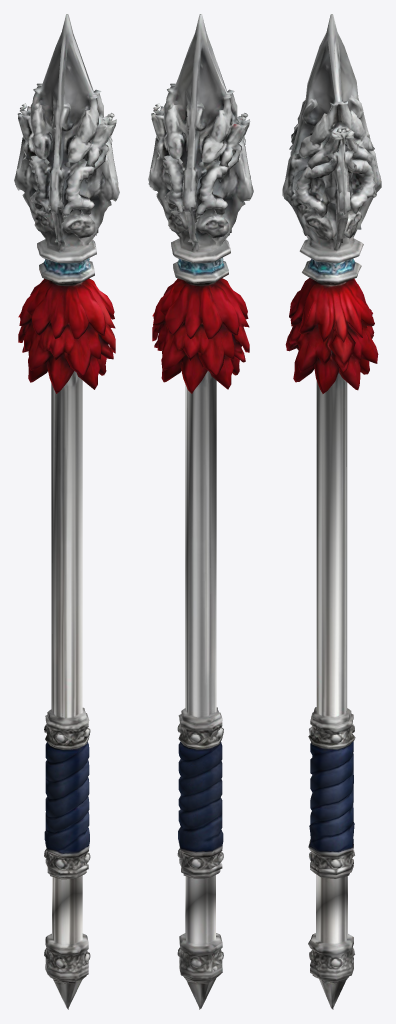
Rendered from silver_spear.glb.
3 renders of one model, left to right at view 1: azimuth 30°, elevation 25°; view 2: azimuth 210°, elevation 25°; view 3: azimuth 330°, elevation 25°, orthographic.
Visible parts, largest first — view 1: tripo_node_7ad8ef5f-51c1-4932-a001-2550d1adc94c; view 2: tripo_node_7ad8ef5f-51c1-4932-a001-2550d1adc94c; view 3: tripo_node_7ad8ef5f-51c1-4932-a001-2550d1adc94c.
Part boxes in pixels (bbox=[...]): tripo_node_7ad8ef5f-51c1-4932-a001-2550d1adc94c: bbox=[14, 14, 119, 1009]; tripo_node_7ad8ef5f-51c1-4932-a001-2550d1adc94c: bbox=[148, 14, 253, 1009]; tripo_node_7ad8ef5f-51c1-4932-a001-2550d1adc94c: bbox=[282, 14, 381, 1009].
Bounding box in the file's own units: 0.0874 × 0.9867 × 0.0874.
Materials: 1 (1 with a texture image).
